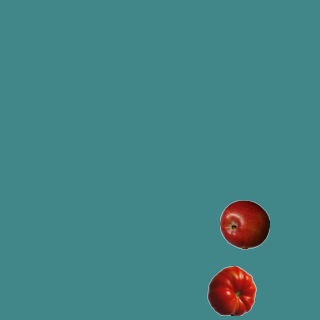Apple Braeburn: (219, 199, 269, 249)
Tomato 3: (206, 265, 256, 315)
